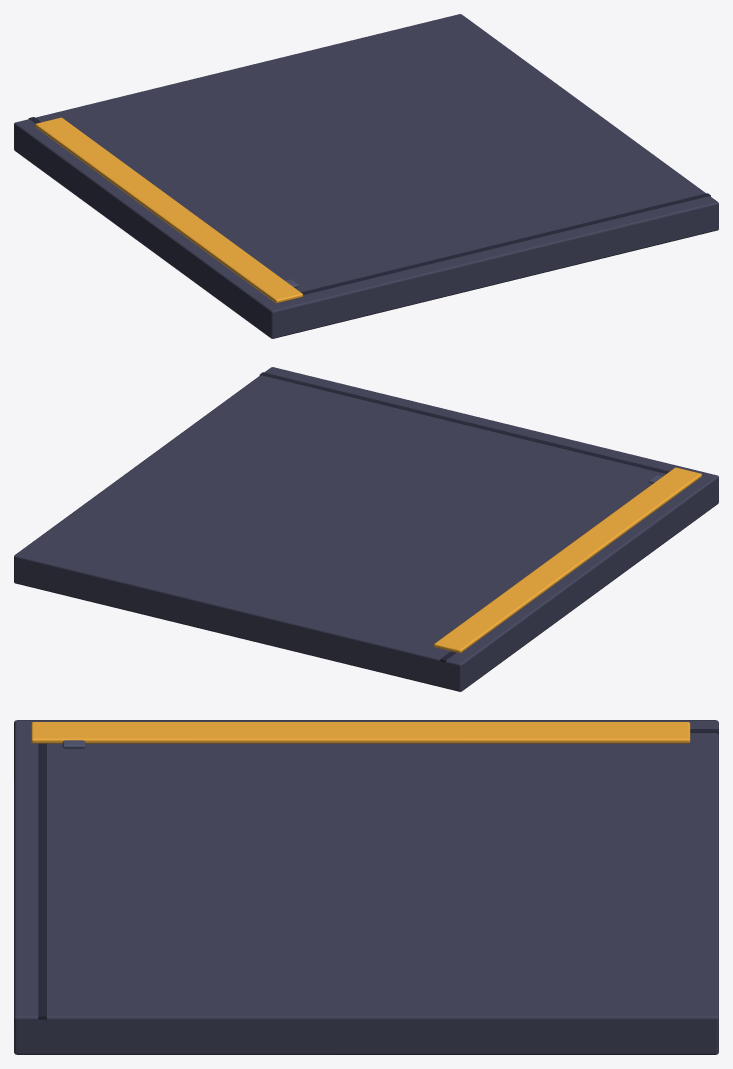
File: floor.plate.WS+hzx.glb
3 views of the same model, one above another, from view 1: azimuth 30°, elevation 25°; view 2: azimuth 150°, elevation 25°; view 3: azimuth 270°, elevation 25° (orthographic). The views are drawn at different scales.
Visible parts, largest first — view 1: floor.plate.WS+hzx; view 2: floor.plate.WS+hzx; view 3: floor.plate.WS+hzx.
Boxes of the visible parts, x1=… form: floor.plate.WS+hzx: x1=14, y1=14, x2=718, y2=338; floor.plate.WS+hzx: x1=14, y1=367, x2=718, y2=691; floor.plate.WS+hzx: x1=14, y1=720, x2=718, y2=1054.
Bounding box in the file's own units: 0.984 × 0.068 × 0.984.
